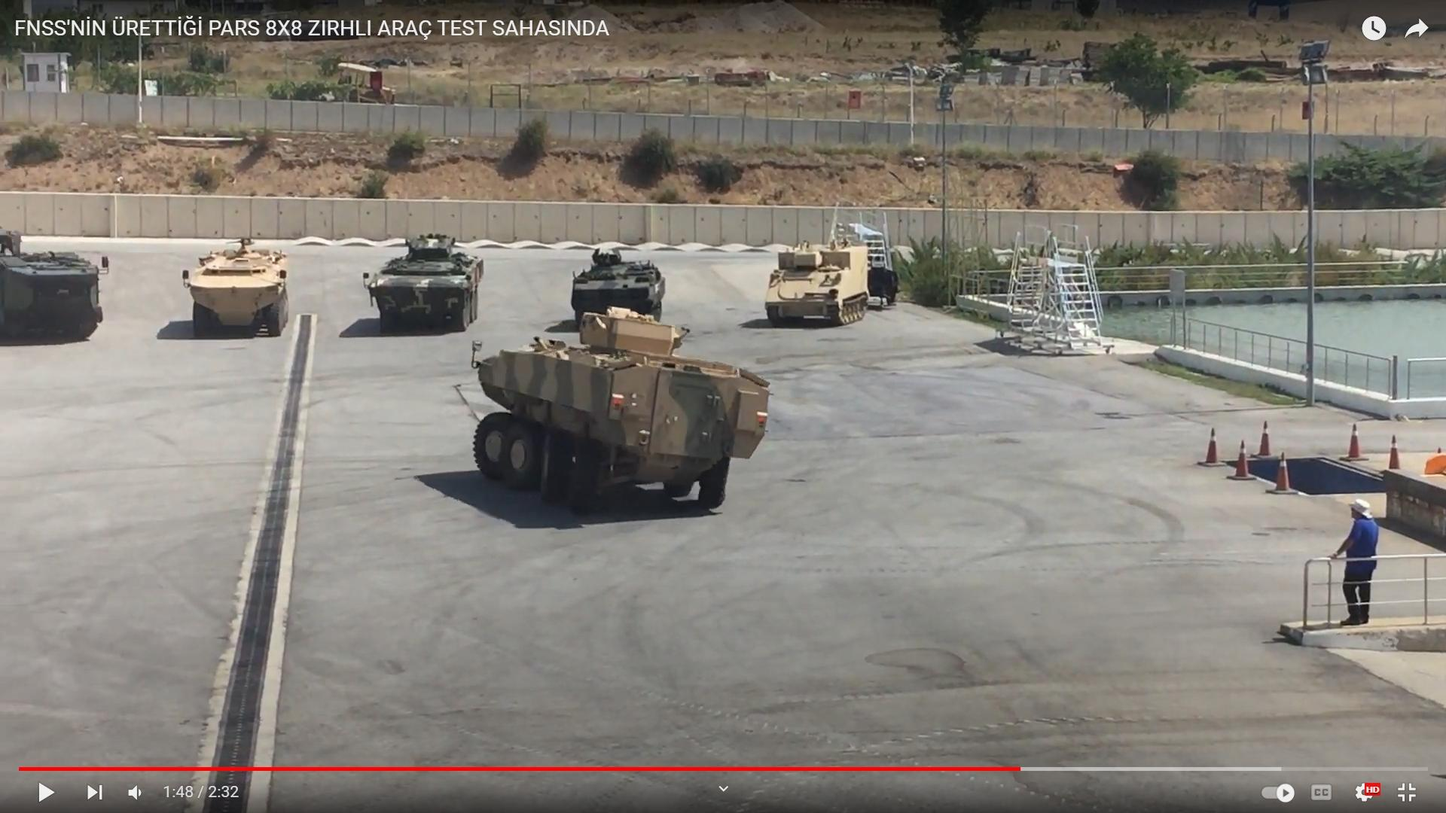armored_car: (469, 337, 768, 513), (365, 238, 484, 334), (183, 239, 291, 339), (764, 240, 874, 328), (0, 251, 102, 344), (566, 243, 675, 330)
